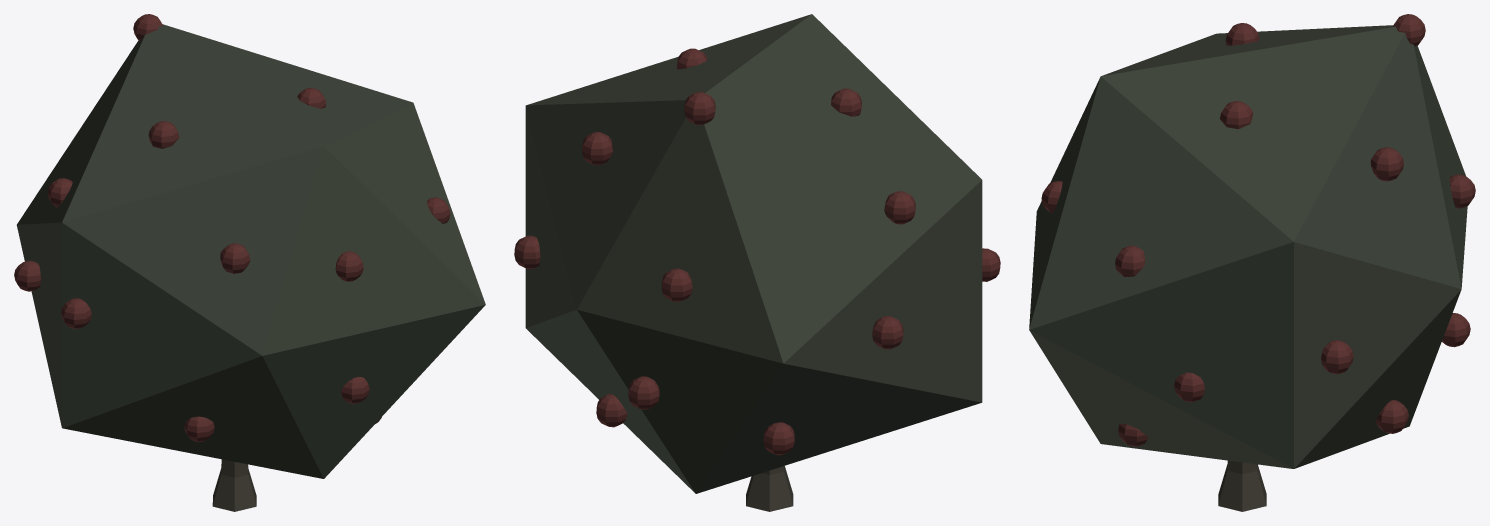
Rendered from RedFruitBush.fbx.
3 views of the same model, side by side, from view 1: azimuth 30°, elevation 25°; view 2: azimuth 150°, elevation 25°; view 3: azimuth 270°, elevation 25° (orthographic). The views are drawn at different scales.
Visible parts, largest first — view 1: RedFruitBush; view 2: RedFruitBush; view 3: RedFruitBush.
Part boxes in pixels (x1,y1,x2,y2): RedFruitBush: [14, 14, 485, 511]; RedFruitBush: [514, 14, 1000, 511]; RedFruitBush: [1029, 14, 1475, 511].
Size of the model in its own units: 52.47 by 55.17 by 46.66.
